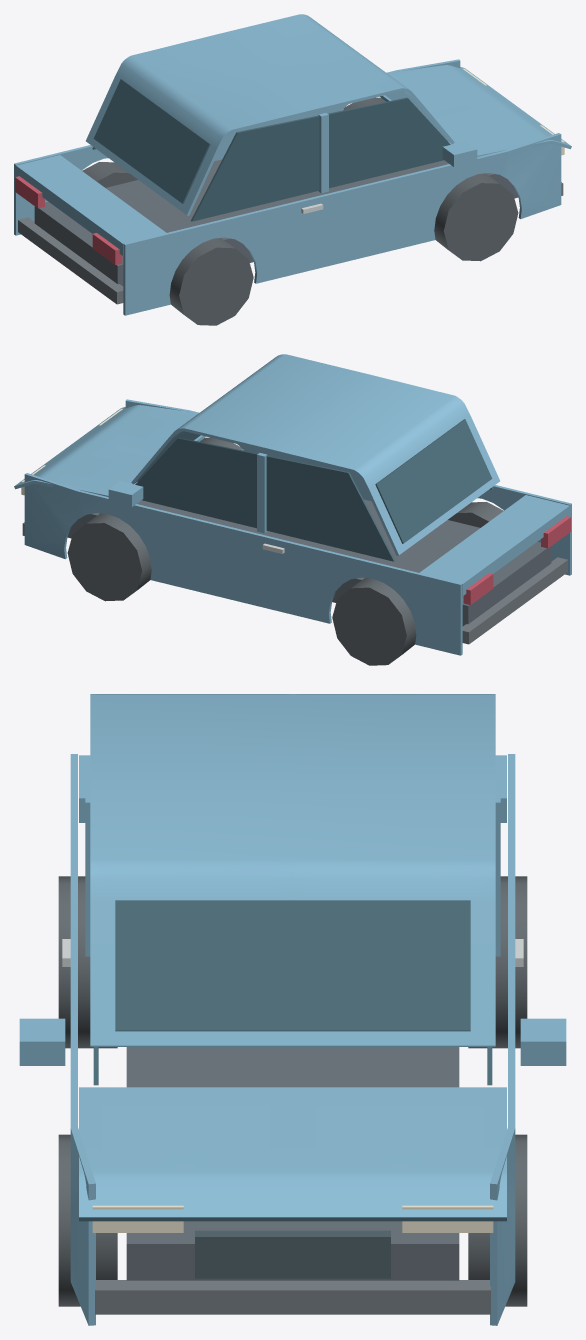
The picture shows the model from 3 angles, top to bottom: view 1: azimuth 30°, elevation 25°; view 2: azimuth 150°, elevation 25°; view 3: azimuth 270°, elevation 25°; orthographic projection. The views are drawn at different scales.
Visible parts, largest first — view 1: arched_fender_right, side_glass_right, rear_roof_fold, front_roof_fold, bent_hood, rear_windshield, underbody, rear_deck, wheel_rear_right, wheel_front_right, arched_fender_left, rear_bumper (+5 smaller); view 2: arched_fender_left, side_glass_left, rear_roof_fold, front_roof_fold, bent_hood, rear_windshield, underbody, rear_deck, wheel_rear_left, wheel_front_left, arched_fender_right, rear_bumper (+5 smaller); view 3: front_roof_fold, bent_hood, front_windshield, rear_roof_fold, underbody, front_bumper, front_grille, arched_fender_left, arched_fender_right, wheel_rear_left, wheel_rear_right, wheel_front_left (+8 smaller).
Boxes of the visible parts, x1=… form: arched_fender_right: x1=123, y1=133, x2=561, y2=315; side_glass_right: x1=191, y1=97, x2=450, y2=221; rear_roof_fold: x1=86, y1=34, x2=317, y2=215; front_roof_fold: x1=216, y1=14, x2=454, y2=144; bent_hood: x1=380, y1=65, x2=571, y2=156; rear_windshield: x1=93, y1=79, x2=210, y2=203; underbody: x1=34, y1=159, x2=518, y2=286; rear_deck: x1=16, y1=155, x2=166, y2=255; wheel_rear_right: x1=169, y1=238, x2=253, y2=325; wheel_front_right: x1=434, y1=173, x2=518, y2=261; arched_fender_left: x1=14, y1=59, x2=460, y2=235; rear_bumper: x1=18, y1=217, x2=123, y2=304; arched_fender_left: x1=24, y1=473, x2=462, y2=655; side_glass_left: x1=135, y1=437, x2=394, y2=561; rear_roof_fold: x1=268, y1=374, x2=499, y2=555; front_roof_fold: x1=131, y1=354, x2=369, y2=484; bent_hood: x1=14, y1=405, x2=205, y2=496; rear_windshield: x1=375, y1=419, x2=492, y2=543; underbody: x1=67, y1=499, x2=551, y2=626; rear_deck: x1=419, y1=495, x2=569, y2=595; wheel_rear_left: x1=332, y1=578, x2=416, y2=665; wheel_front_left: x1=67, y1=513, x2=151, y2=601; arched_fender_right: x1=125, y1=399, x2=571, y2=575; rear_bumper: x1=462, y1=557, x2=567, y2=644; front_roof_fold: x1=90, y1=777, x2=495, y2=1046; bent_hood: x1=79, y1=1087, x2=506, y2=1221; front_windshield: x1=115, y1=900, x2=470, y2=1031; rear_roof_fold: x1=90, y1=694, x2=495, y2=777; underbody: x1=126, y1=1047, x2=459, y2=1280; front_bumper: x1=95, y1=1280, x2=490, y2=1314; front_grille: x1=195, y1=1230, x2=390, y2=1278; arched_fender_left: x1=490, y1=754, x2=515, y2=1325; arched_fender_right: x1=70, y1=754, x2=95, y2=1325; wheel_rear_left: x1=468, y1=876, x2=527, y2=1048; wheel_rear_right: x1=58, y1=876, x2=117, y2=1048; wheel_front_left: x1=468, y1=1134, x2=527, y2=1306.
Size of the model in its own units: 3.88 by 1.51 by 2.03.
